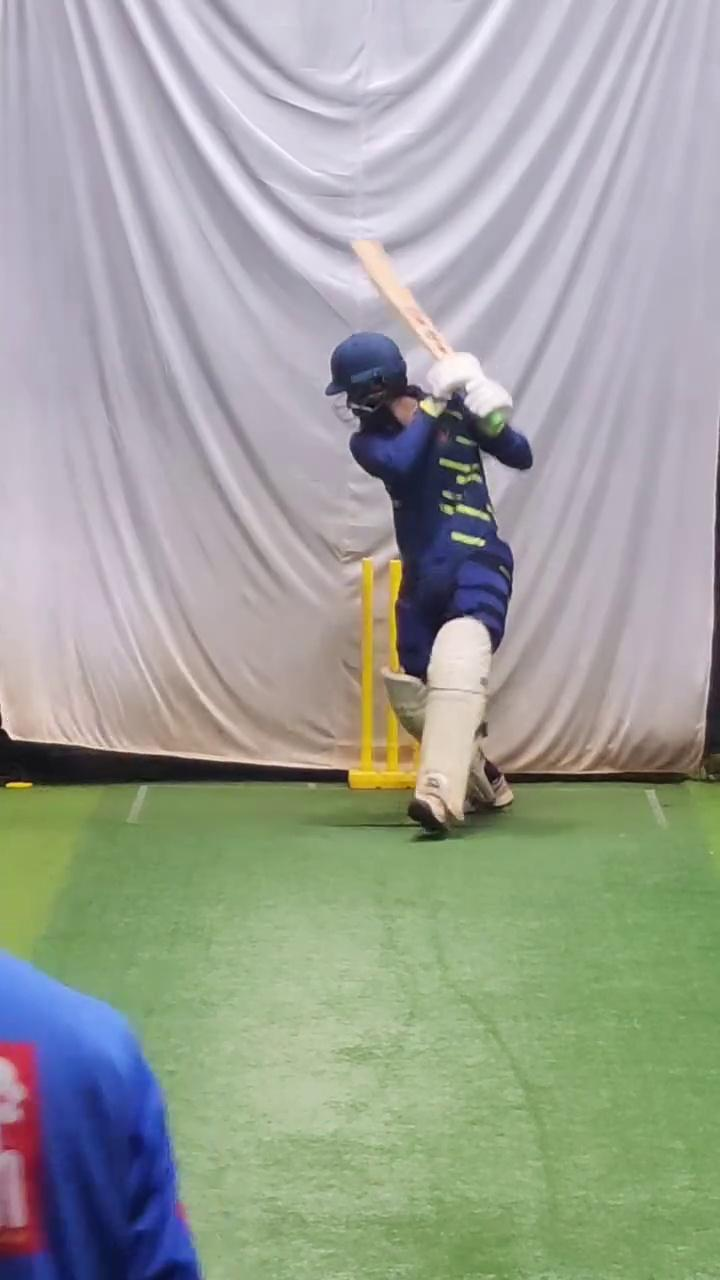bat: (351, 228, 453, 364)
